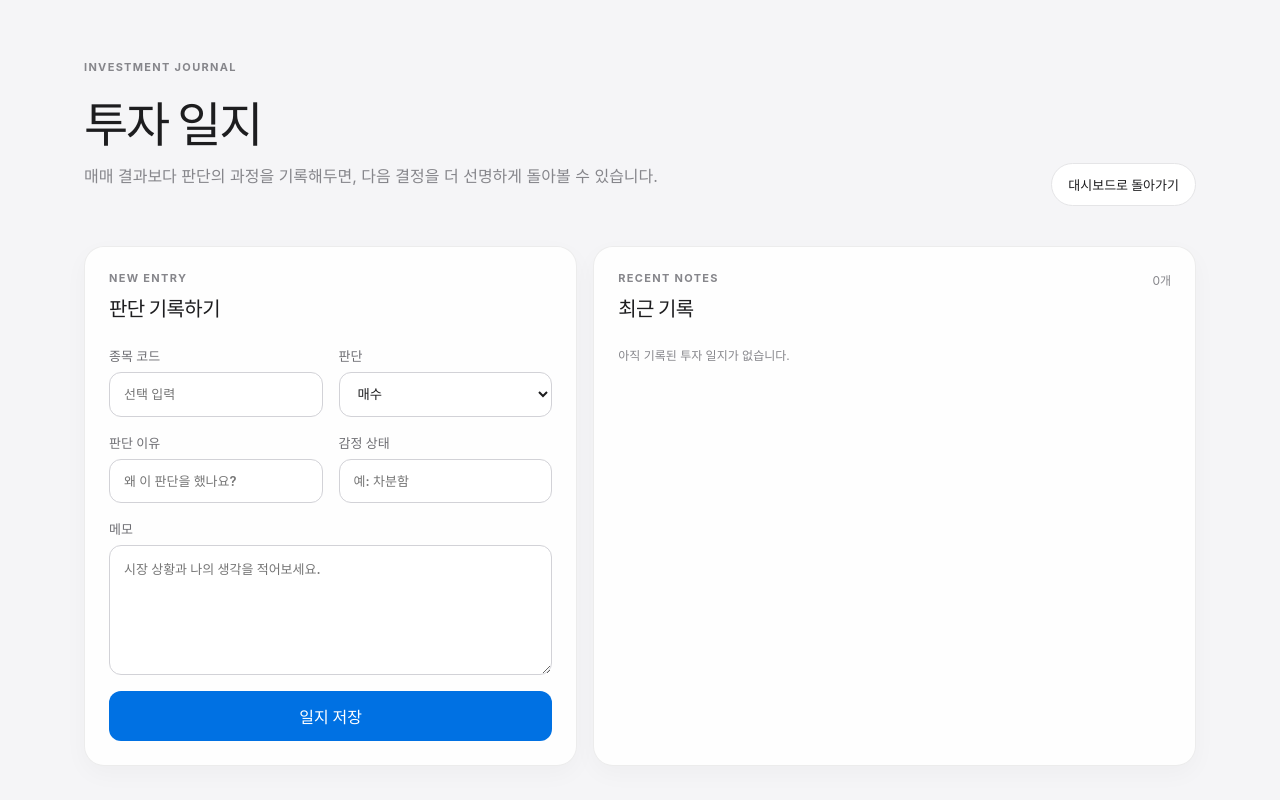
Test case: InvestmentJournalPage › creates a journal entry from the form
expect the text "아직 기록된 투자 일지가 없습니다." is shown: met, box [618, 348, 790, 363]
Type "AAPL" into the field labelled "종목 코드" at [216, 394], box [109, 372, 323, 417]
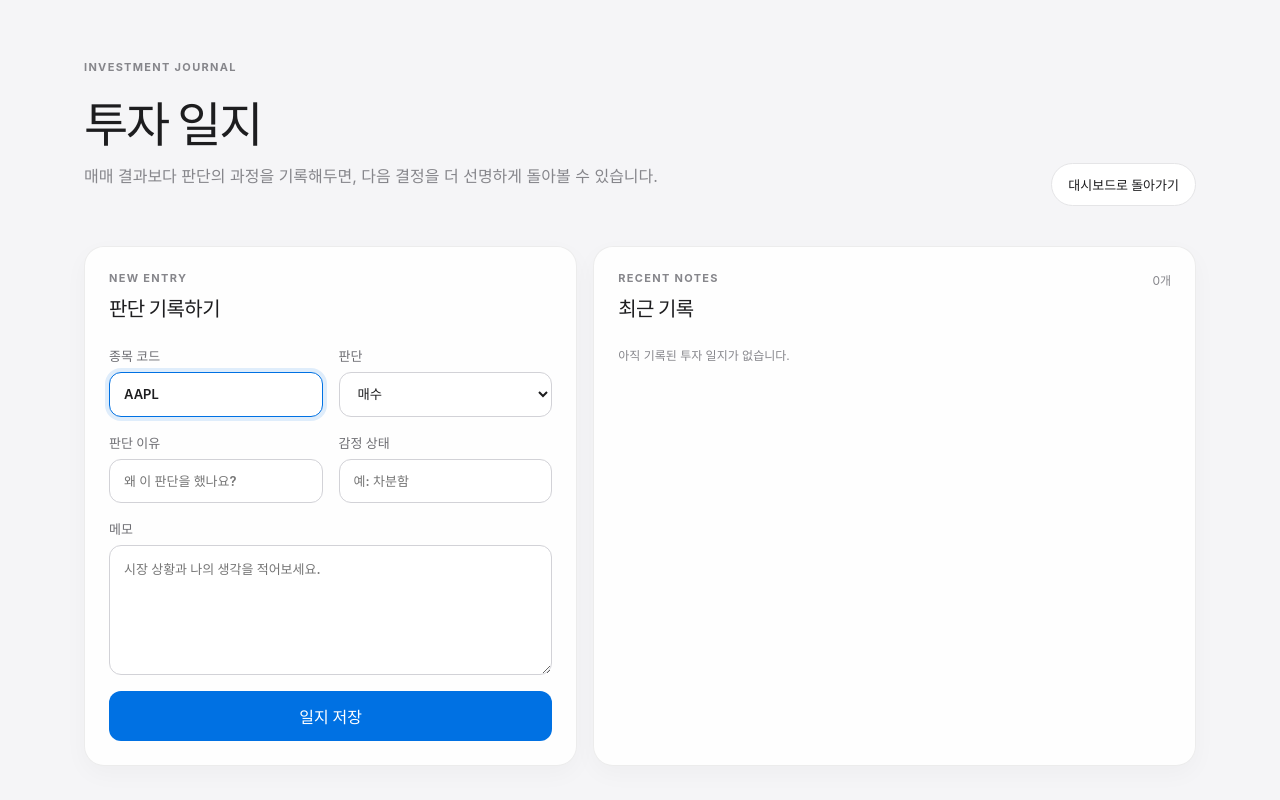
Select "매수" in the dropdown labelled "판단" at [445, 394], box [339, 372, 552, 417]
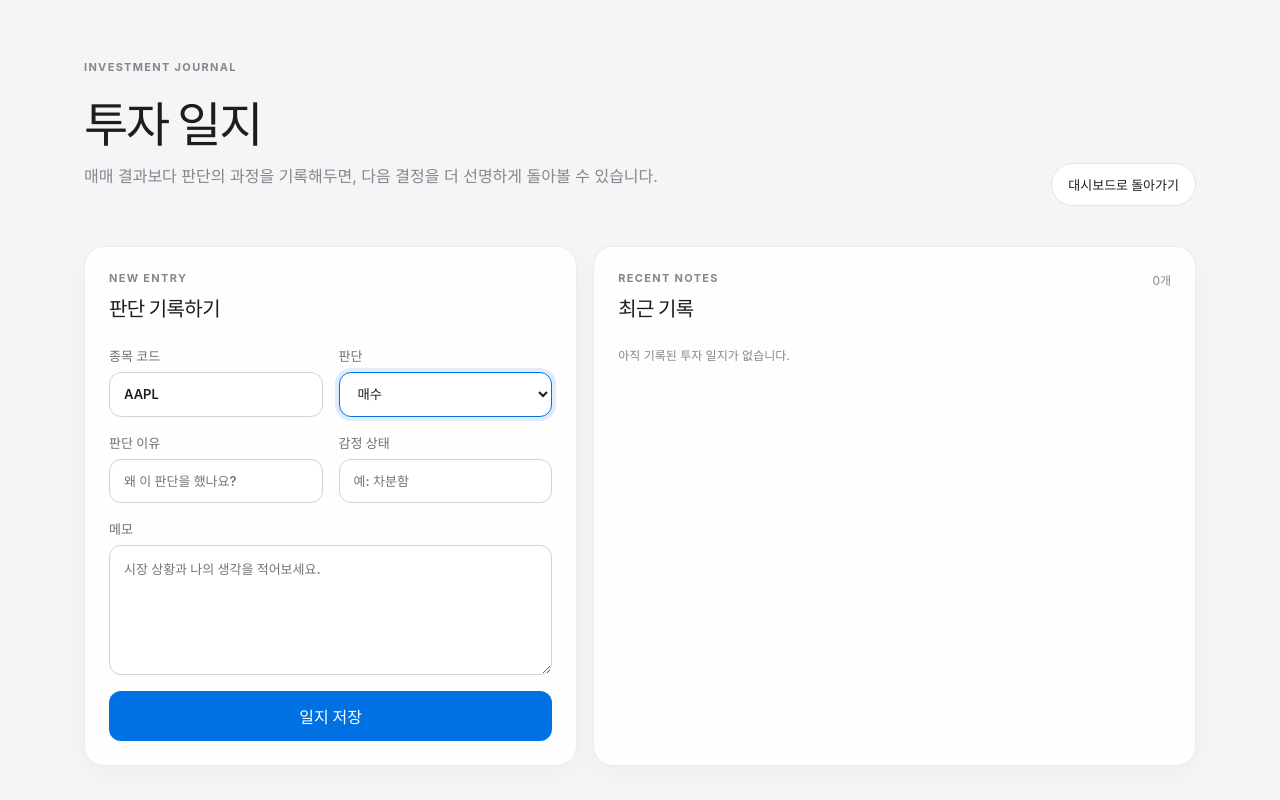
Type "장기 보유" into the field labelled "판단 이유" at [216, 481], box [109, 459, 323, 503]
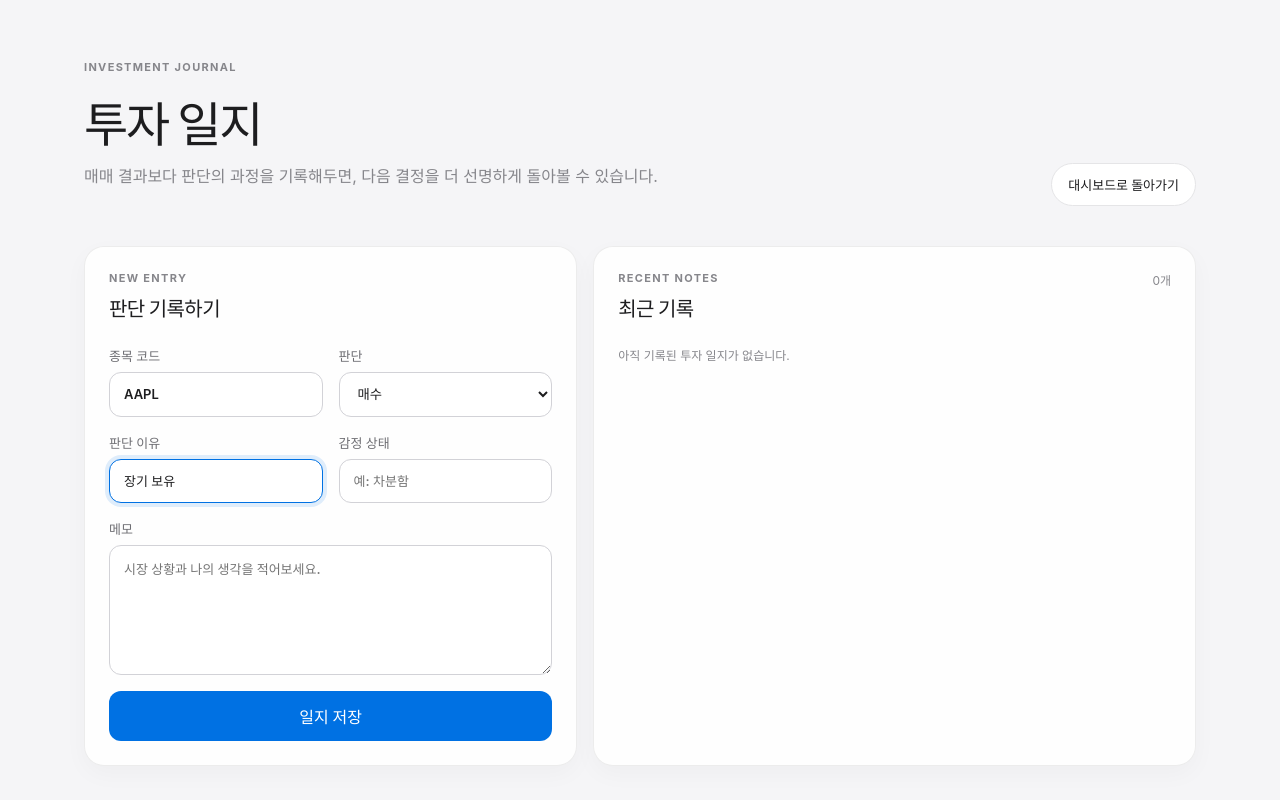
Type "차분함" into the field labelled "감정 상태" at [445, 481], box [339, 459, 552, 503]
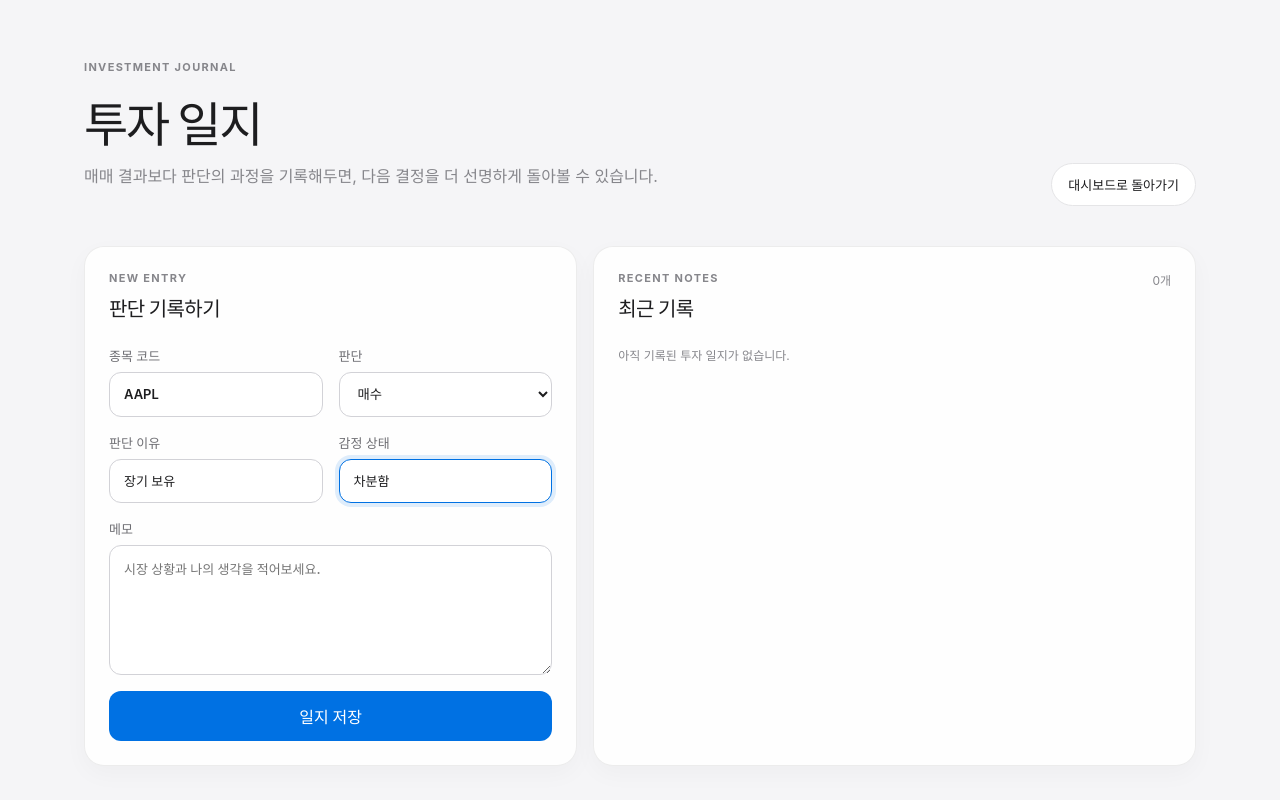
Type "실적 발표 전 분할 매수" into the text box labelled "메모" at [331, 610], box [109, 545, 552, 675]
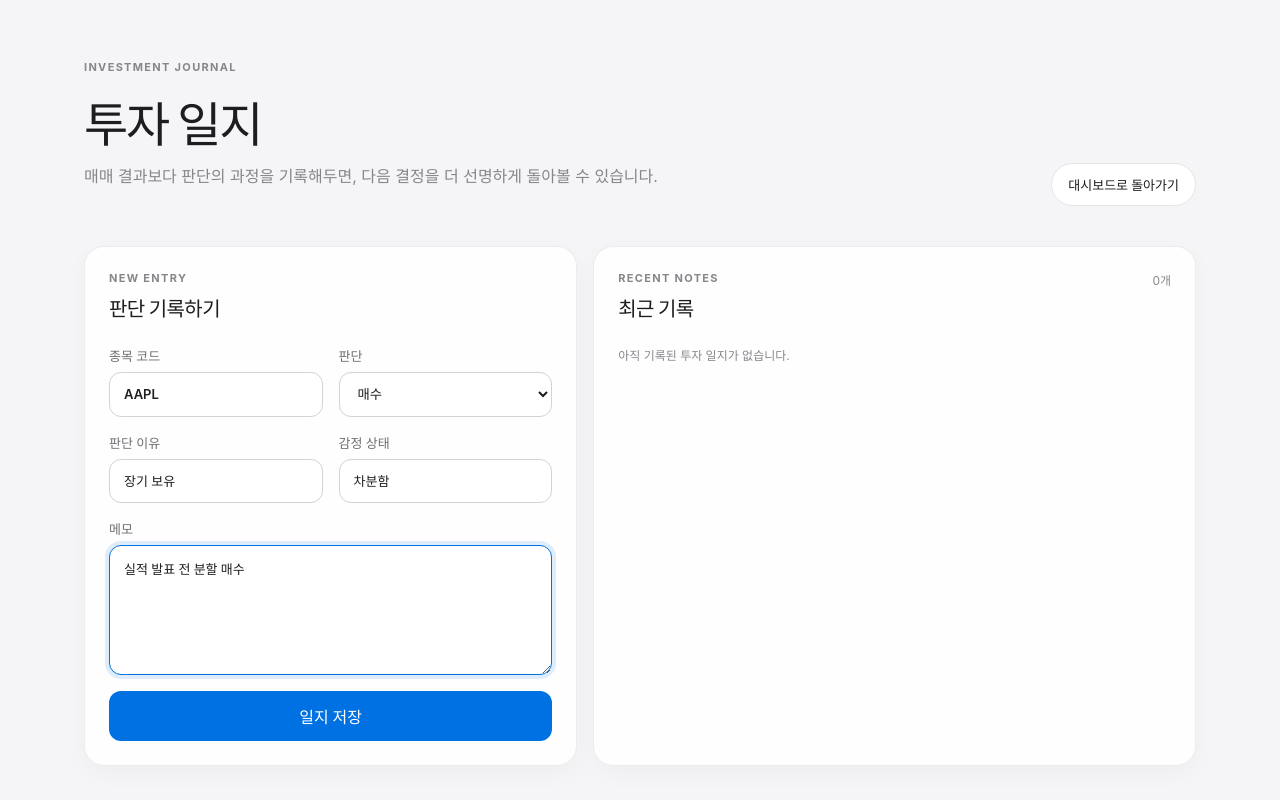
Click the button "일지 저장" at [331, 716], box [109, 691, 552, 741]
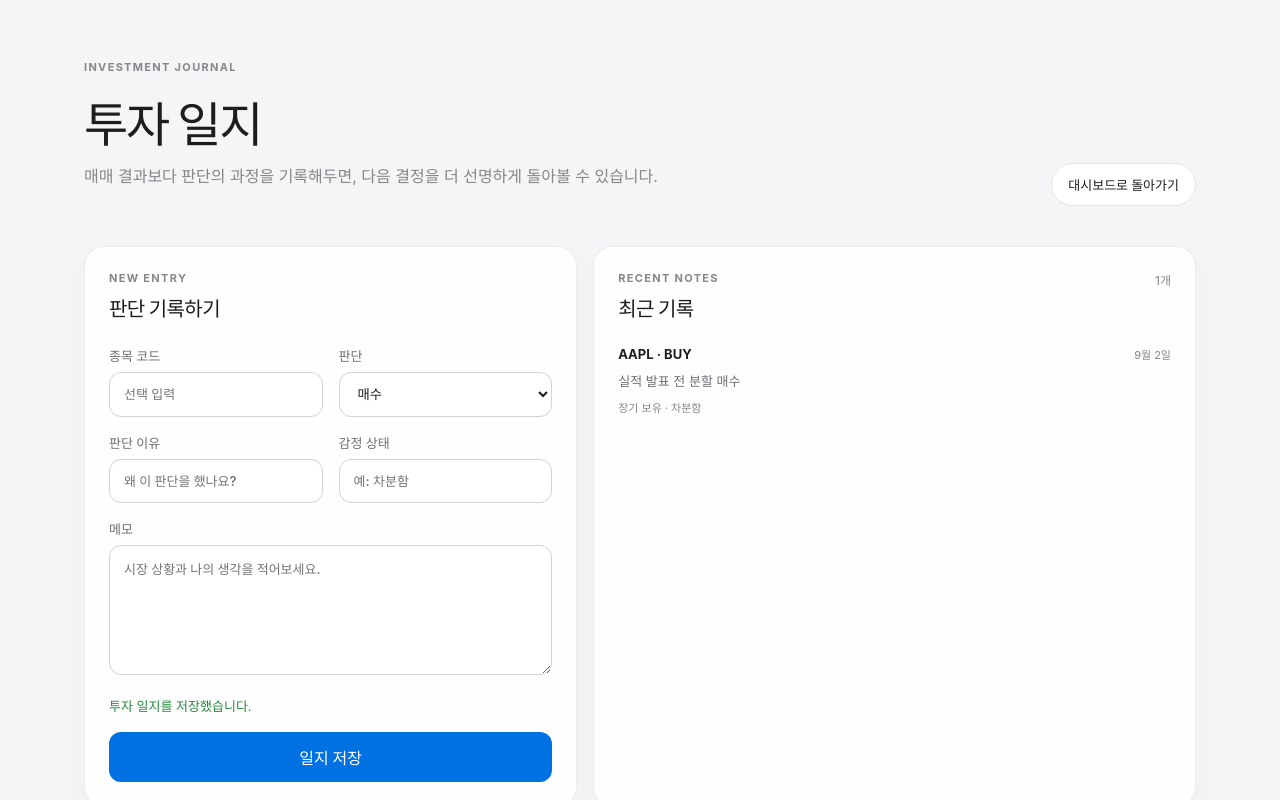
expect the text "투자 일지를 저장했습니다." is shown: met, box [109, 698, 252, 714]
